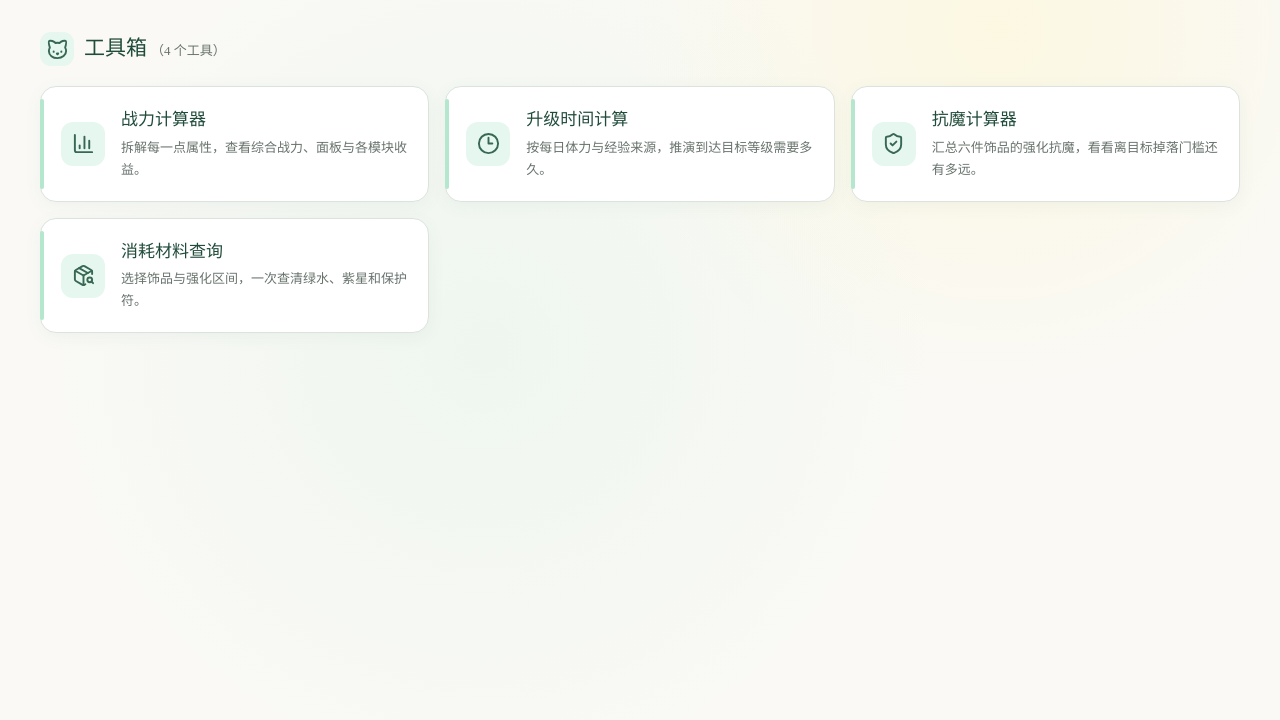
Test: 首页快捷导航 › 所有设备标题都只显示当前工具名称
Click the link with aria-label "进入抗魔计算器": [1045, 144] box x1=851 y1=86 x2=1240 y2=202
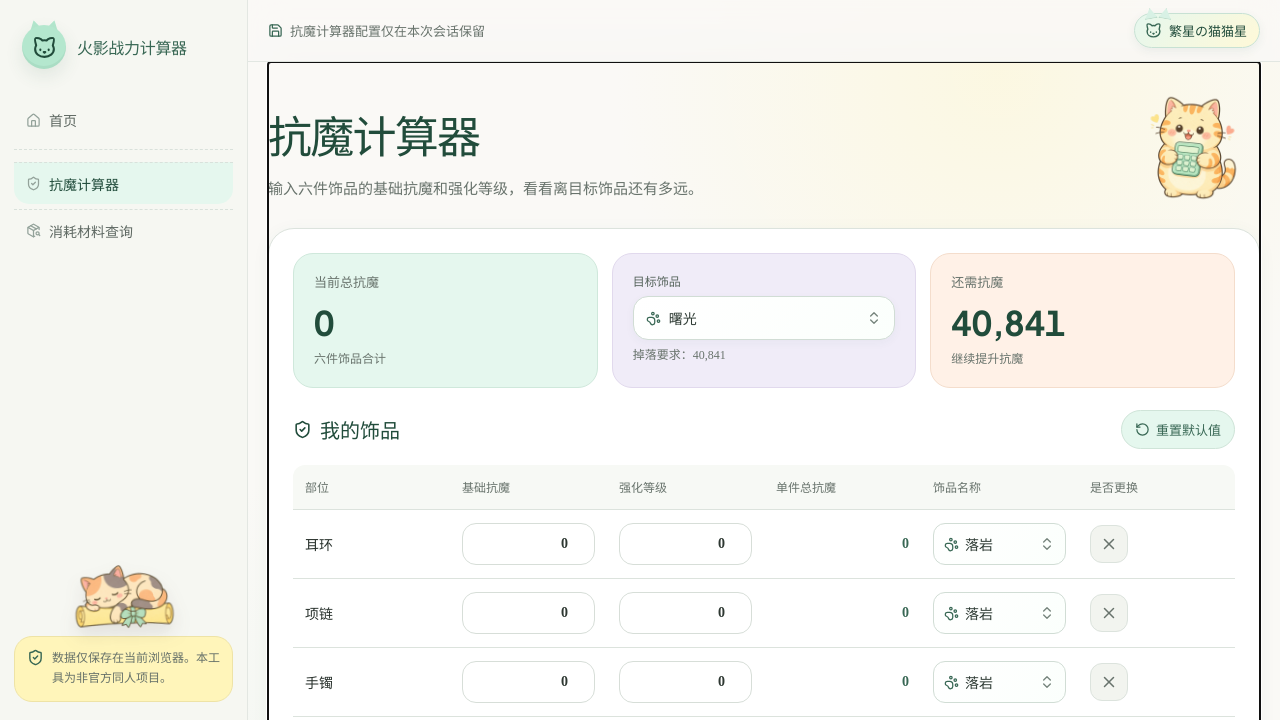
Check: the text "抗魔计算器" is shown, box x1=49 y1=174 x2=119 y2=194
